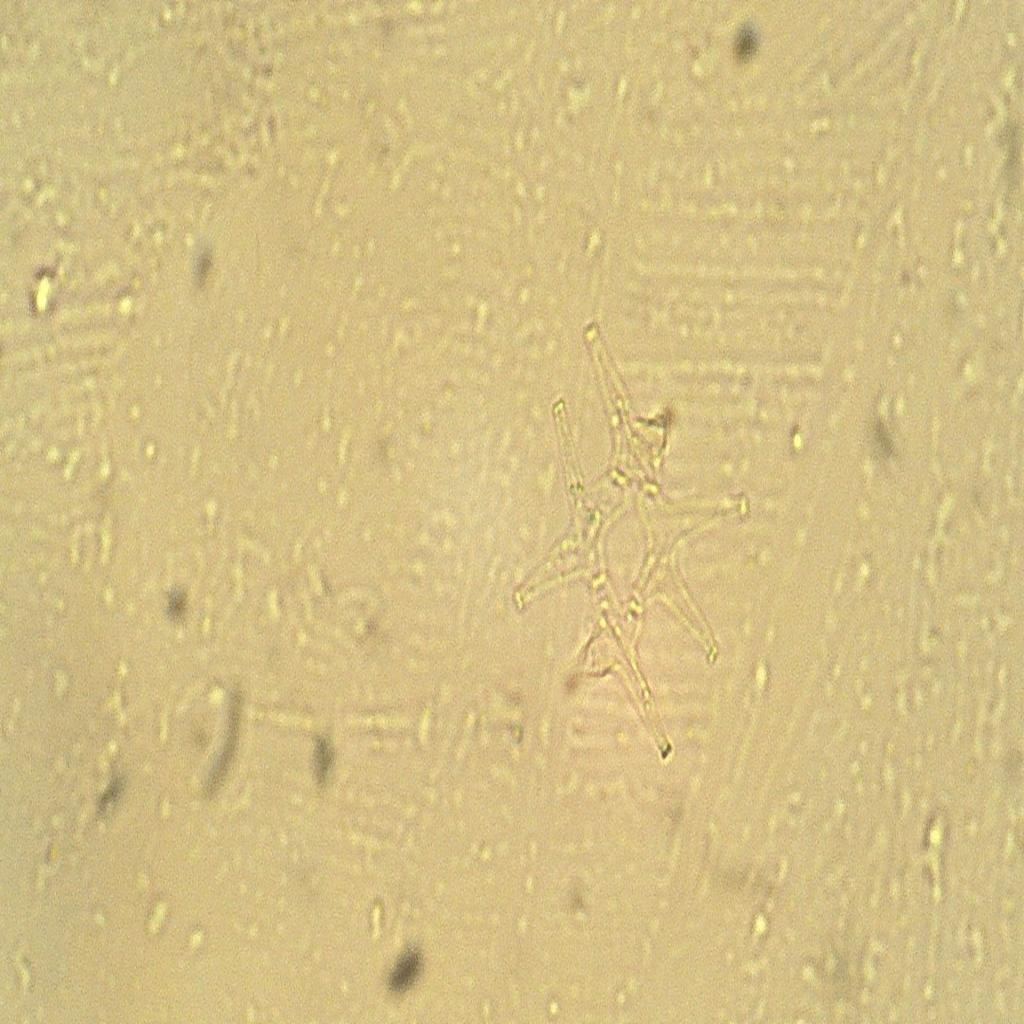Pediastrum_75TH: (478, 280, 760, 802)
